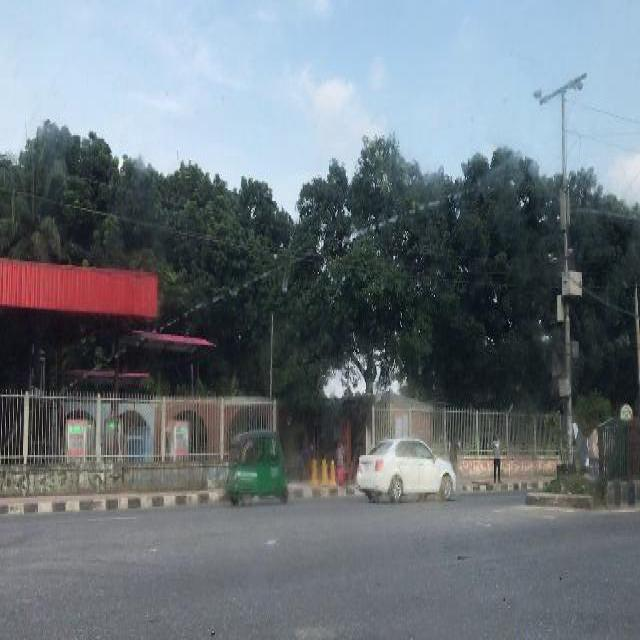car: (352, 434, 458, 508)
three wheelers -CNG-: (222, 422, 294, 510)
